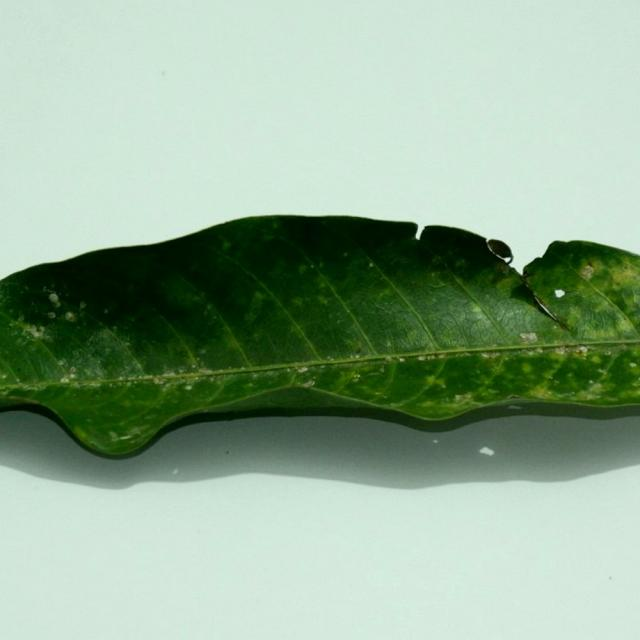Mango: (0, 217, 639, 457)
Powdery_Mildew: (550, 281, 568, 305), (61, 307, 77, 324)
